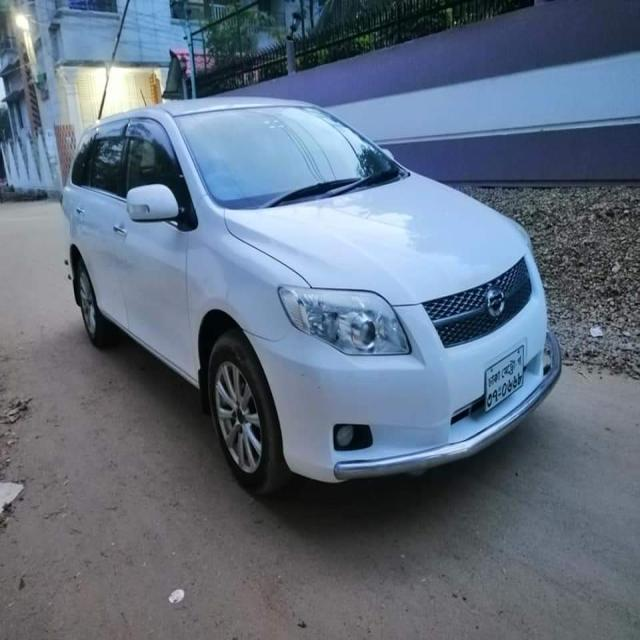white: (51, 93, 548, 506)
